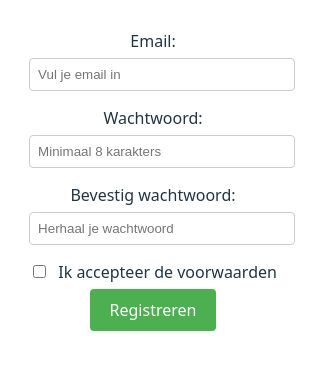
it: RegistrationForm › should show error if terms are not accepted on submit
Type "test@example.com" into the field with id "email".
click(162, 74); type("test@example.com")  # box [29,58,295,91]
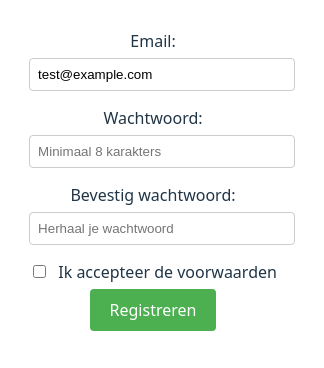
Type "password123" into the password field labelled "Wachtwoord:".
click(162, 152); type("password123")  # box [29,135,295,168]
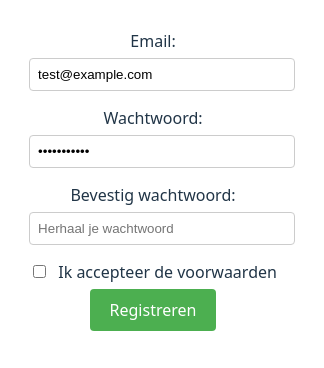
Type "password123" into the password field with id "confirmPassword".
click(162, 228); type("password123")  # box [29,212,295,245]
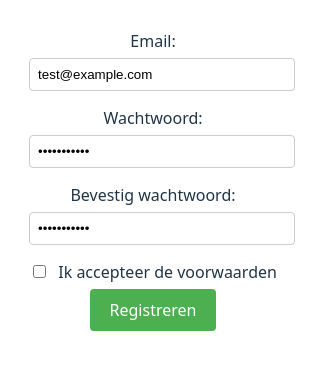
Submit the form
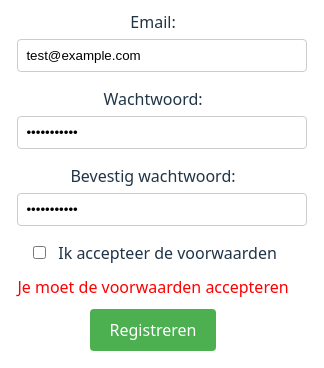
expect the text "Je moet de voorwaarden accepteren" is shown: met, box [17,274,289,298]
expect the text with class "error" reads "Je moet de voorwaarden accepteren": met, box [17,276,289,298]
